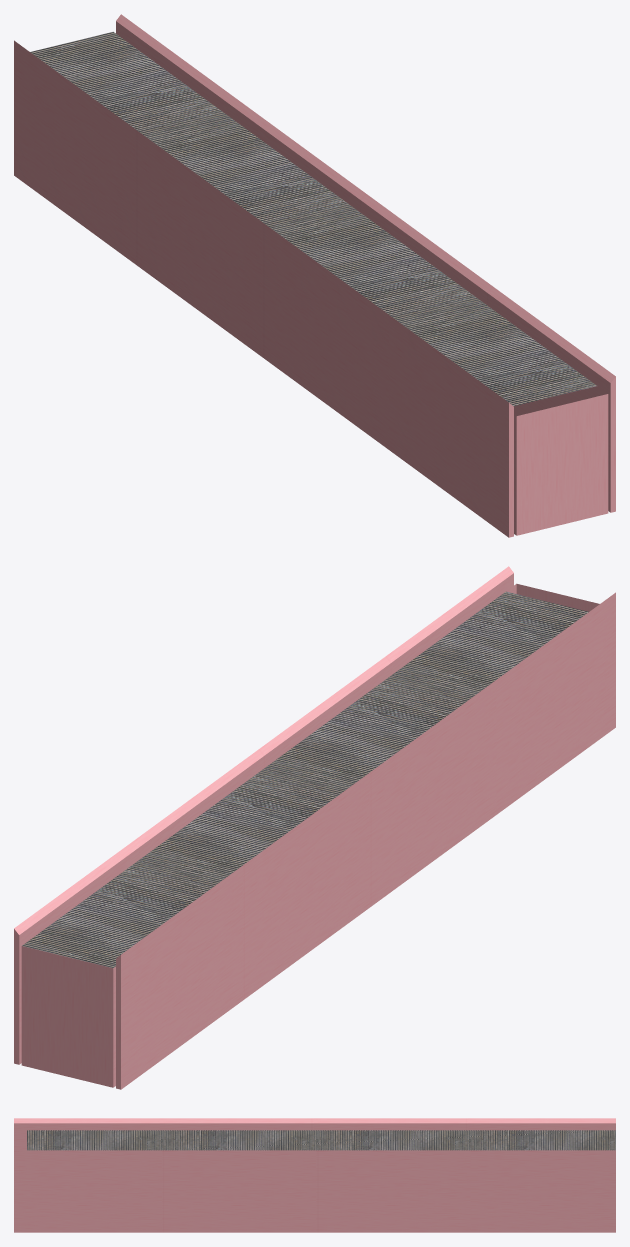
File: Treadmill NEW.fbx
The picture shows the model from 3 angles, top to bottom: view 1: azimuth 30°, elevation 25°; view 2: azimuth 150°, elevation 25°; view 3: azimuth 270°, elevation 25°; orthographic projection. The views are drawn at different scales.
Visible parts, largest first — view 1: Treadmill_Sides, Treadmill_Rubber; view 2: Treadmill_Sides, Treadmill_Rubber; view 3: Treadmill_Sides, Treadmill_Rubber.
Boxes of the visible parts, <box> form: Treadmill_Sides: <box>14,14,615,537</box>; Treadmill_Rubber: <box>30,31,596,406</box>; Treadmill_Sides: <box>14,566,615,1089</box>; Treadmill_Rubber: <box>22,591,588,967</box>; Treadmill_Sides: <box>14,1118,615,1232</box>; Treadmill_Rubber: <box>27,1130,615,1150</box>.
Size of the model in its own units: 0.75 by 0.9041 by 6.
